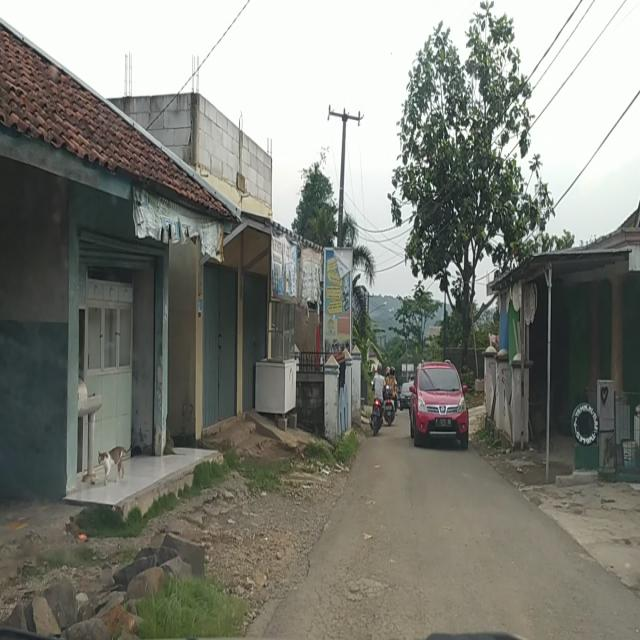Drain Hole: (320, 554, 404, 634)
